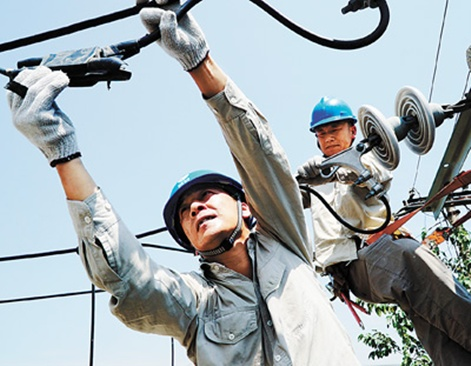blue: (160, 167, 248, 253), (307, 93, 358, 156)
